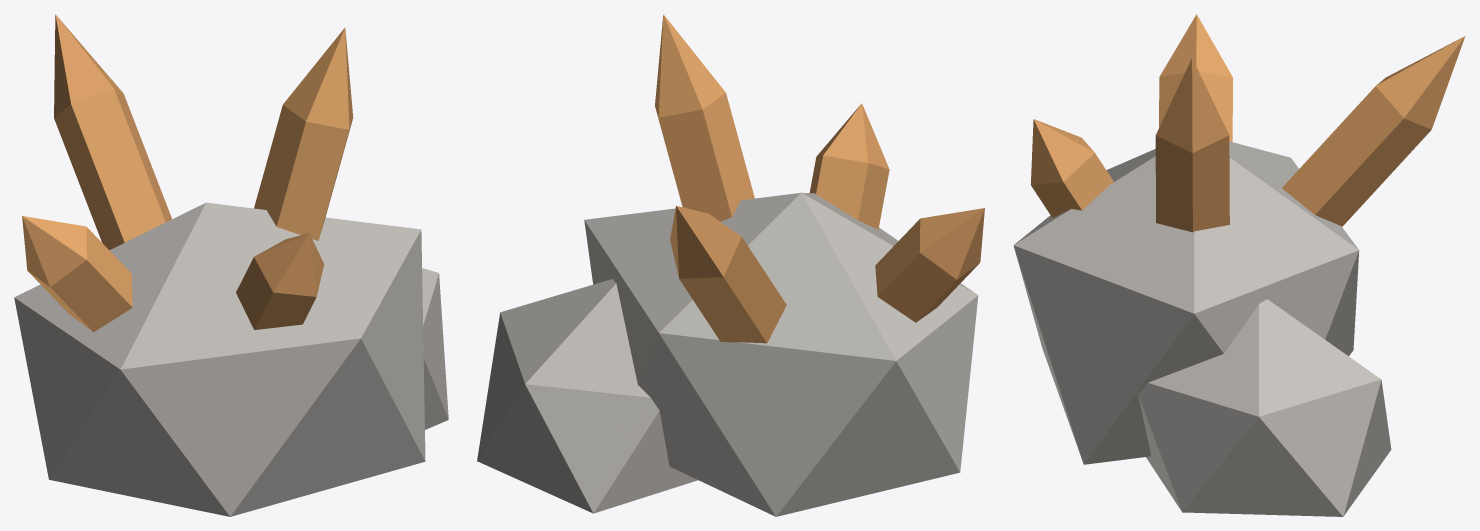
Rendered from copper_outcrop.glb.
3 views of the same model, side by side, from view 1: azimuth 30°, elevation 25°; view 2: azimuth 150°, elevation 25°; view 3: azimuth 270°, elevation 25° (orthographic). The views are drawn at different scales.
Visible parts, largest first — view 1: copper_outcrop; view 2: copper_outcrop; view 3: copper_outcrop.
Boxes of the visible parts, x1,y1,x2,y2 form: copper_outcrop: [14, 14, 448, 516]; copper_outcrop: [477, 14, 984, 516]; copper_outcrop: [1013, 14, 1465, 516].
Bounding box in the file's own units: 0.948 × 0.8343 × 0.8392.
